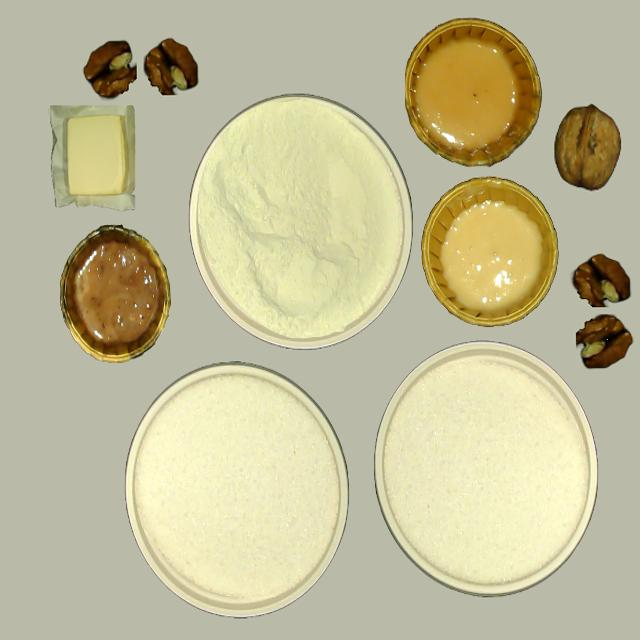Cocoa: (59, 223, 170, 362)
Flour: (193, 95, 404, 340), (132, 371, 340, 603)
Milk: (382, 354, 589, 585), (439, 198, 544, 316)
Walnut: (553, 103, 621, 190), (143, 37, 198, 95), (572, 252, 630, 307), (82, 39, 137, 97), (575, 313, 632, 368)
